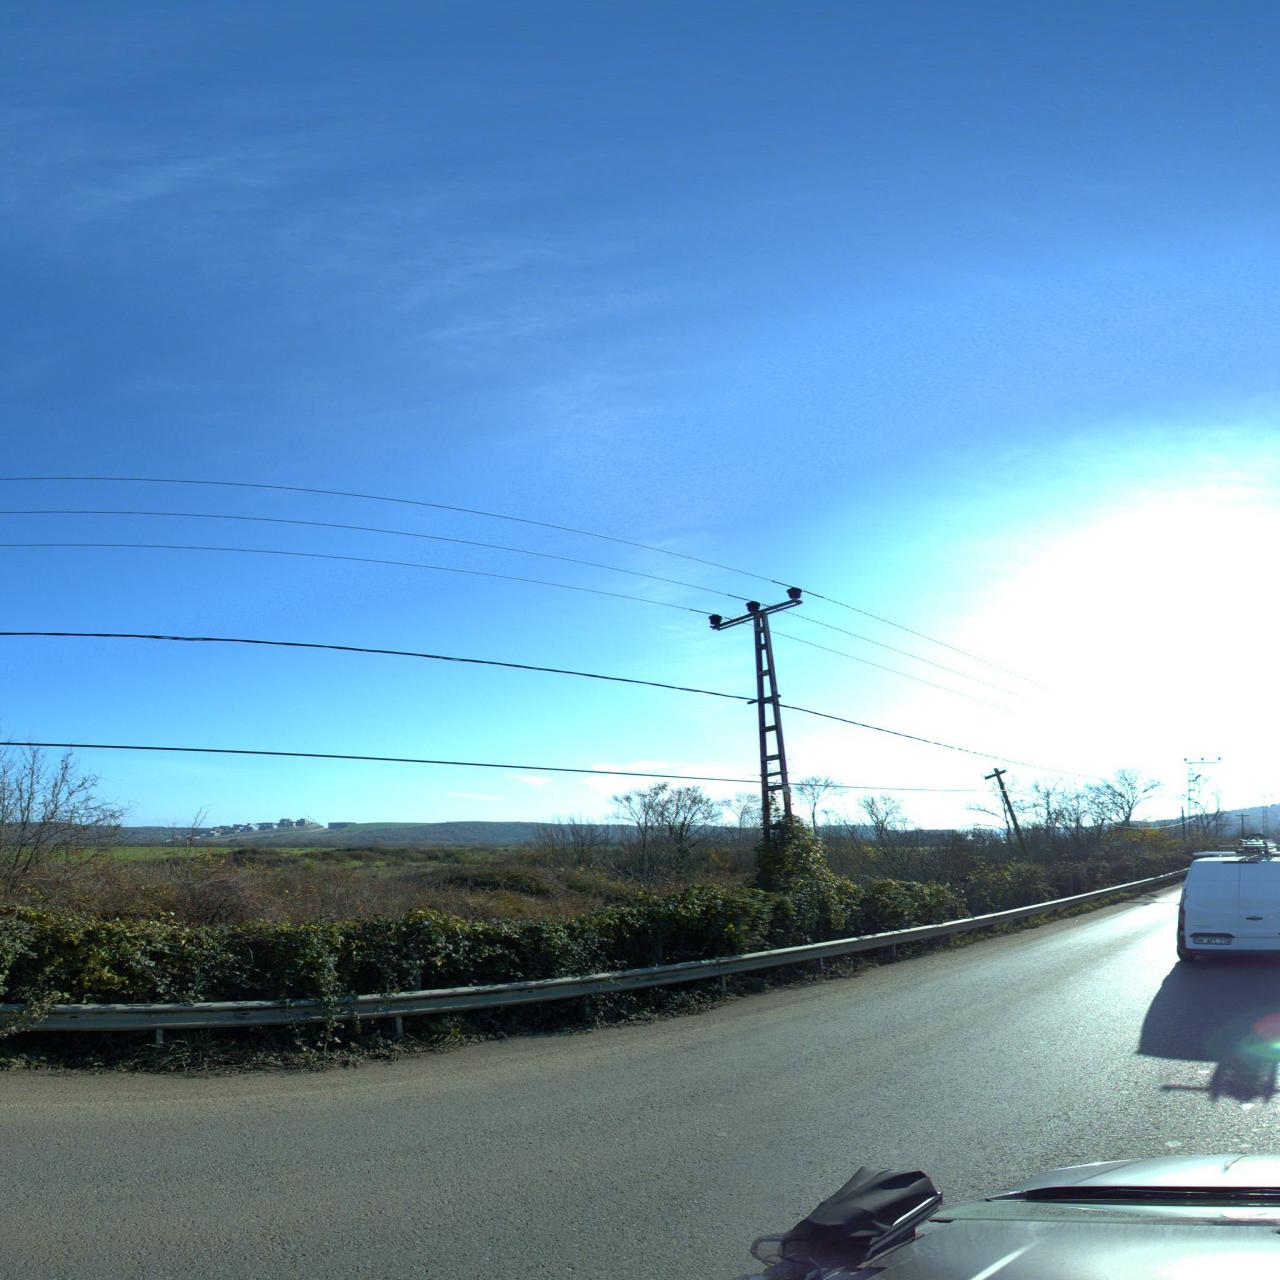Utility Pole Information Plate: (784, 794, 791, 802), (783, 787, 791, 792)
